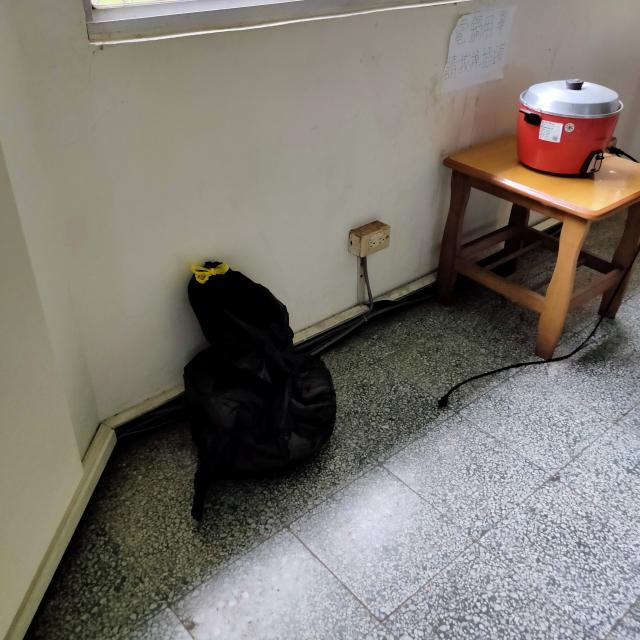Vinyl: (48, 184, 462, 569), (149, 222, 354, 522)
